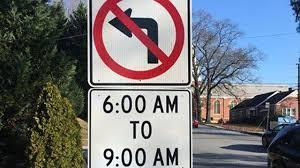no_left_turn: (93, 0, 183, 78)
